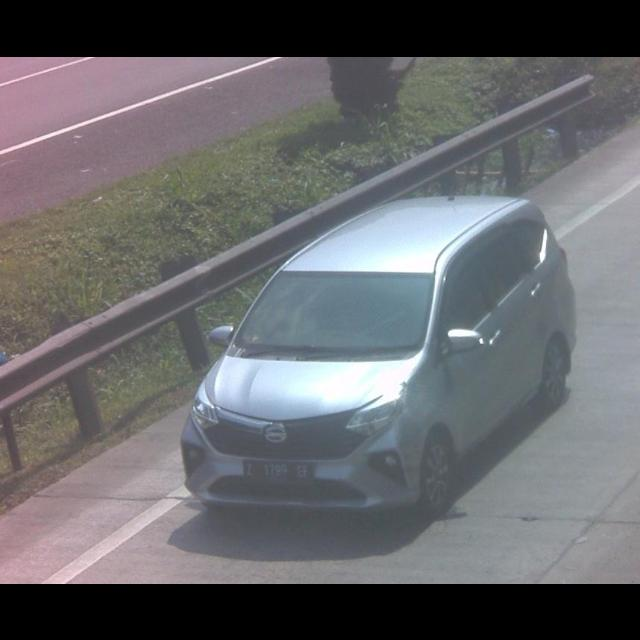plate: (239, 457, 319, 489)
